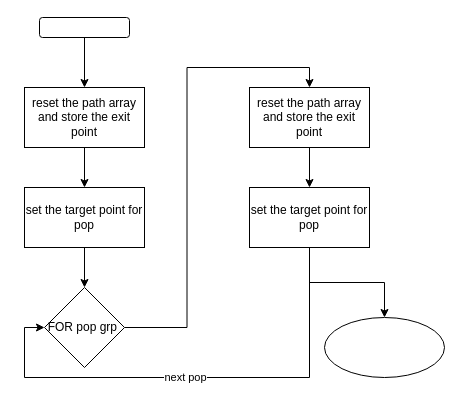
The diagram is 462 pixels wide and 403 high, and some of its shapes have lost their labels. Here are the shapes that lost their labels. From the top down, the centre of each, then its label:
the point at 84,27: start
the point at 384,347: end
